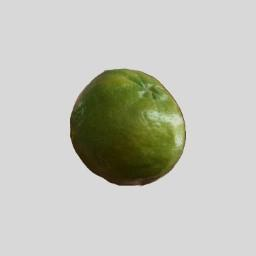Unripe: (71, 66, 183, 183)
